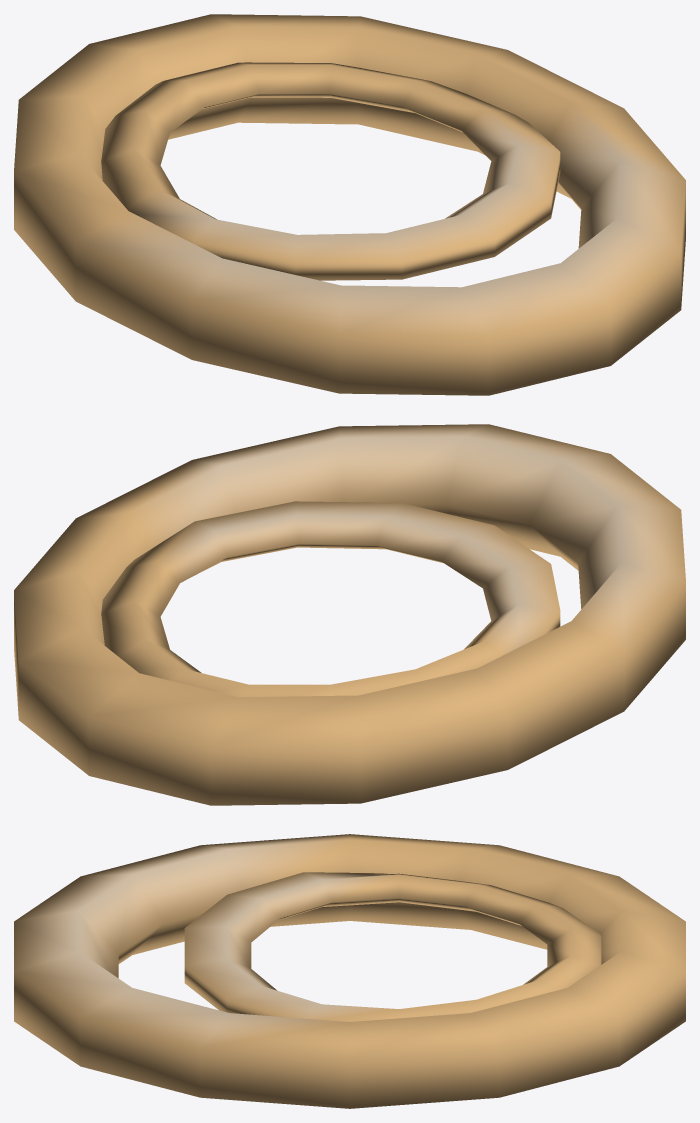
File: RookiesShopRope.fbx
3 views of the same model, one above another, from view 1: azimuth 30°, elevation 25°; view 2: azimuth 150°, elevation 25°; view 3: azimuth 270°, elevation 25° (orthographic). The views are drawn at different scales.
Visible parts, largest first — view 1: RookiesShopRope (1); view 2: RookiesShopRope (1); view 3: RookiesShopRope (1).
Part boxes in pixels (x1,y1,x2,y2): RookiesShopRope (1): (14,14,685,395); RookiesShopRope (1): (14,424,685,805); RookiesShopRope (1): (14,834,685,1108).
Bounding box in the file's own units: 56.87 × 9.5 × 71.79.
